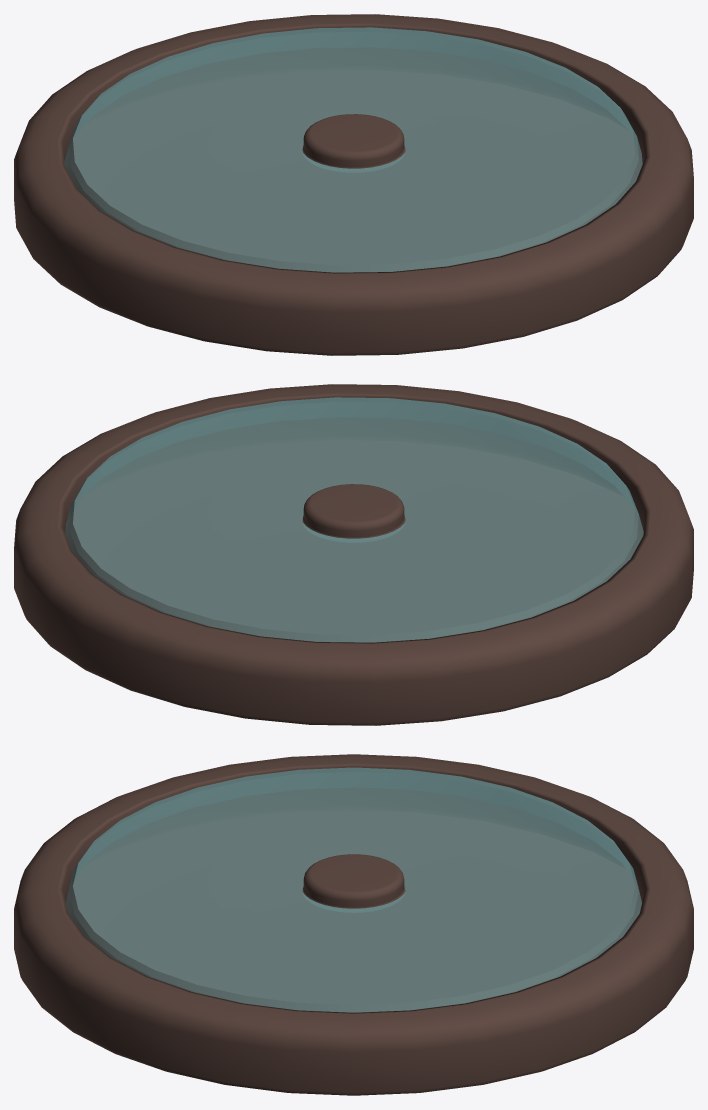
File: Teleporter.fbx
The picture shows the model from 3 angles, top to bottom: view 1: azimuth 30°, elevation 25°; view 2: azimuth 150°, elevation 25°; view 3: azimuth 270°, elevation 25°; orthographic projection.
Visible parts, largest first — view 1: pCylinder1; view 2: pCylinder1; view 3: pCylinder1.
Boxes of the visible parts, left/top/right/bottom form: pCylinder1: left=14, top=14, right=693, bottom=355; pCylinder1: left=14, top=384, right=693, bottom=725; pCylinder1: left=14, top=754, right=693, bottom=1095.
Size of the model in its own units: 9 by 1.19 by 9.
